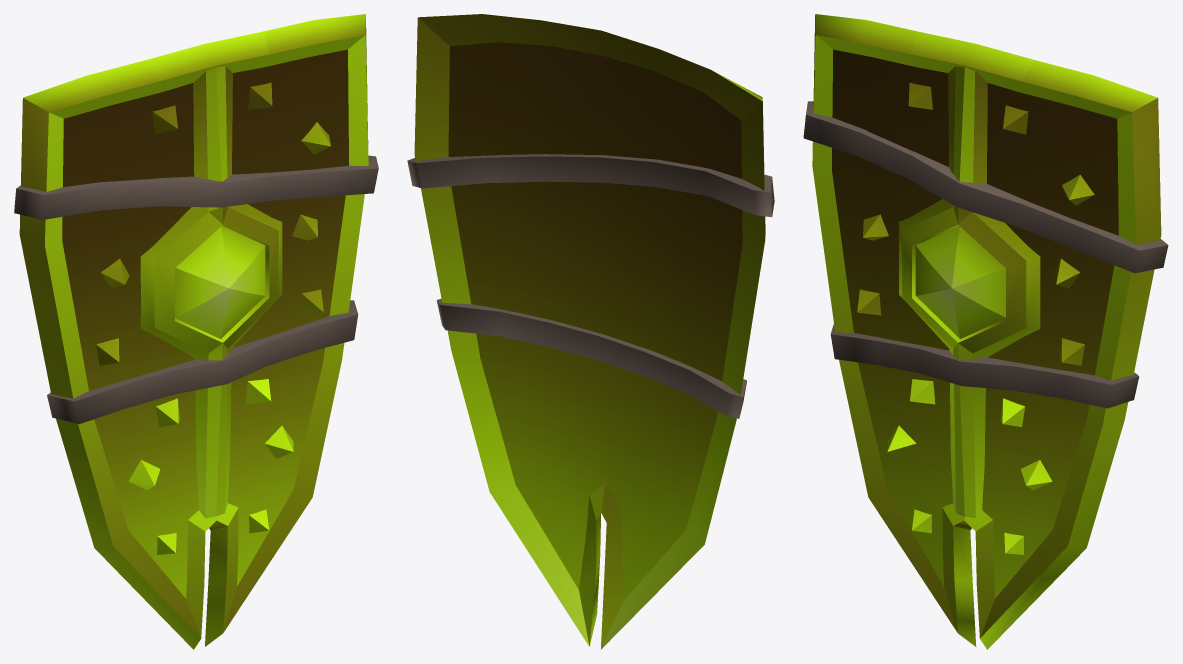
File: Shield1h_21.fbx
3 views of the same model, side by side, from view 1: azimuth 30°, elevation 25°; view 2: azimuth 150°, elevation 25°; view 3: azimuth 330°, elevation 25° (orthographic).
Visible parts, largest first — view 1: Shield1h_21; view 2: Shield1h_21; view 3: Shield1h_21.
Part boxes in pixels (x1,y1,x2,y2): Shield1h_21: (14,14,378,649); Shield1h_21: (407,14,774,649); Shield1h_21: (803,14,1168,649).
Size of the model in its own units: 56.57 by 90.96 by 10.24.
